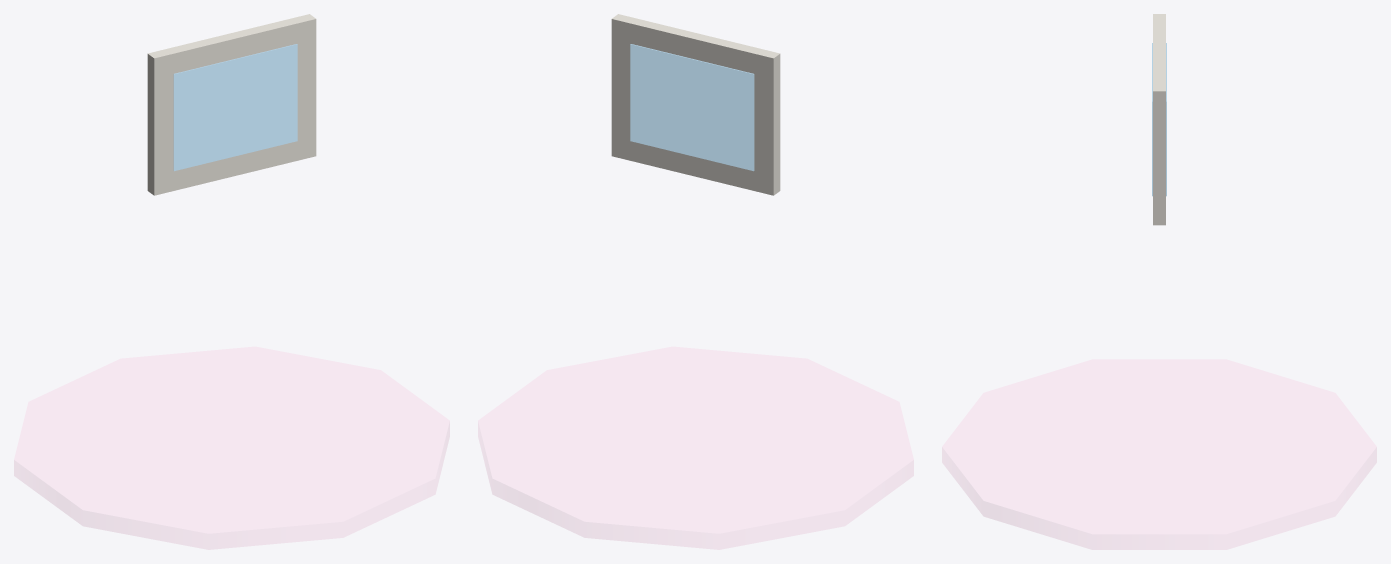
File: photo.glb
3 renders of one model, left to right at view 1: azimuth 30°, elevation 25°; view 2: azimuth 150°, elevation 25°; view 3: azimuth 270°, elevation 25°, orthographic. The views are drawn at different scales.
Bounding box in the file's own units: 0.9511 × 1.04 × 1.
